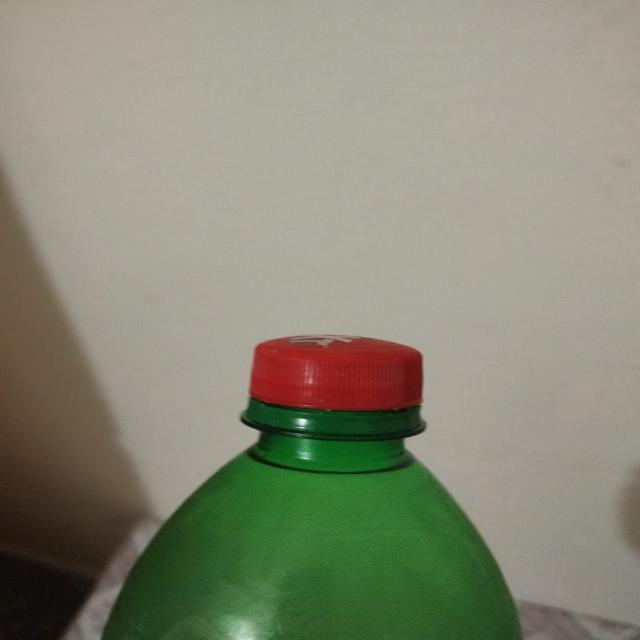cap: (246, 334, 425, 436)
